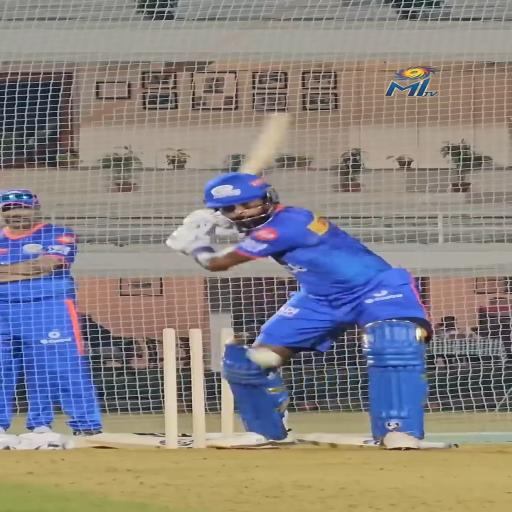Cricket bat: (239, 114, 291, 176)
